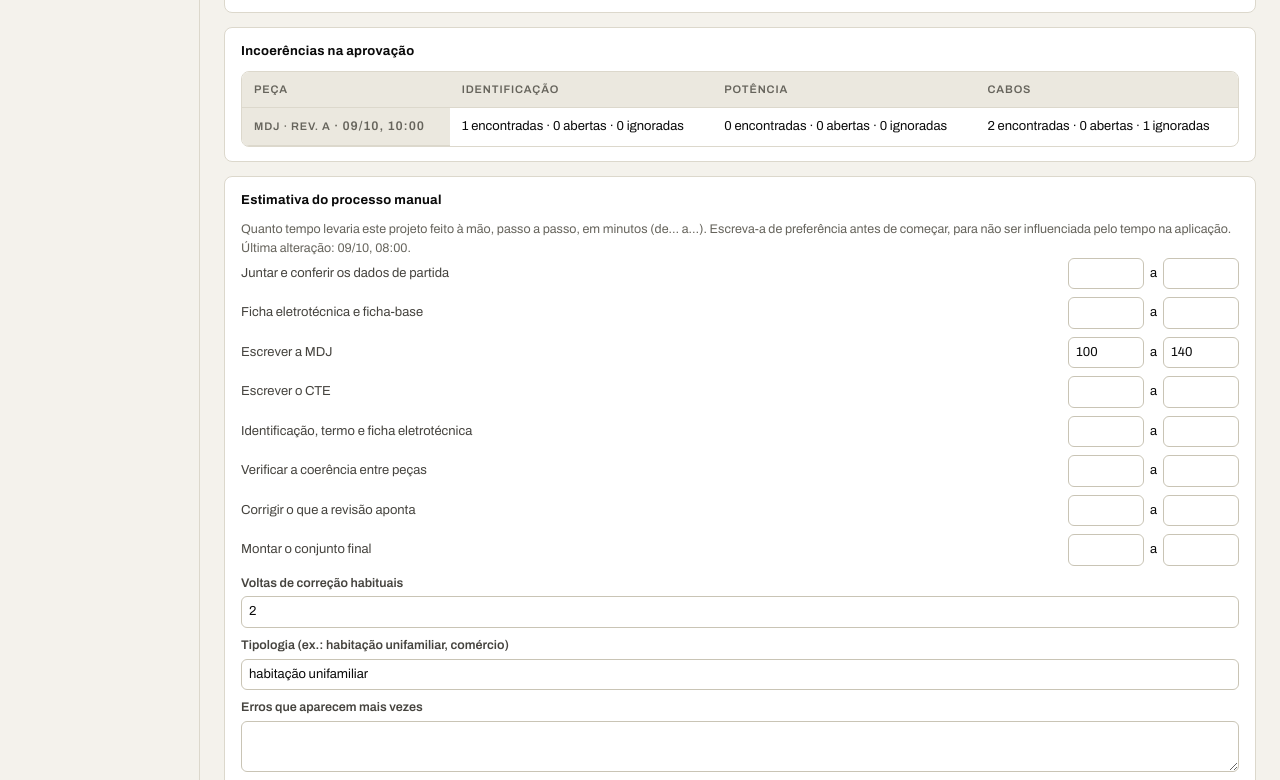
Test: pilot screen (Phase 8) › lets the technician write the estimate, step by step in minutes
The width and height of the screenshot is (1280, 780).
(page scrolled)
Type "80" into the number field named "Escrever o CTE: mínimo (min)" at (1106, 392), box left=1068, top=376, right=1144, bottom=408
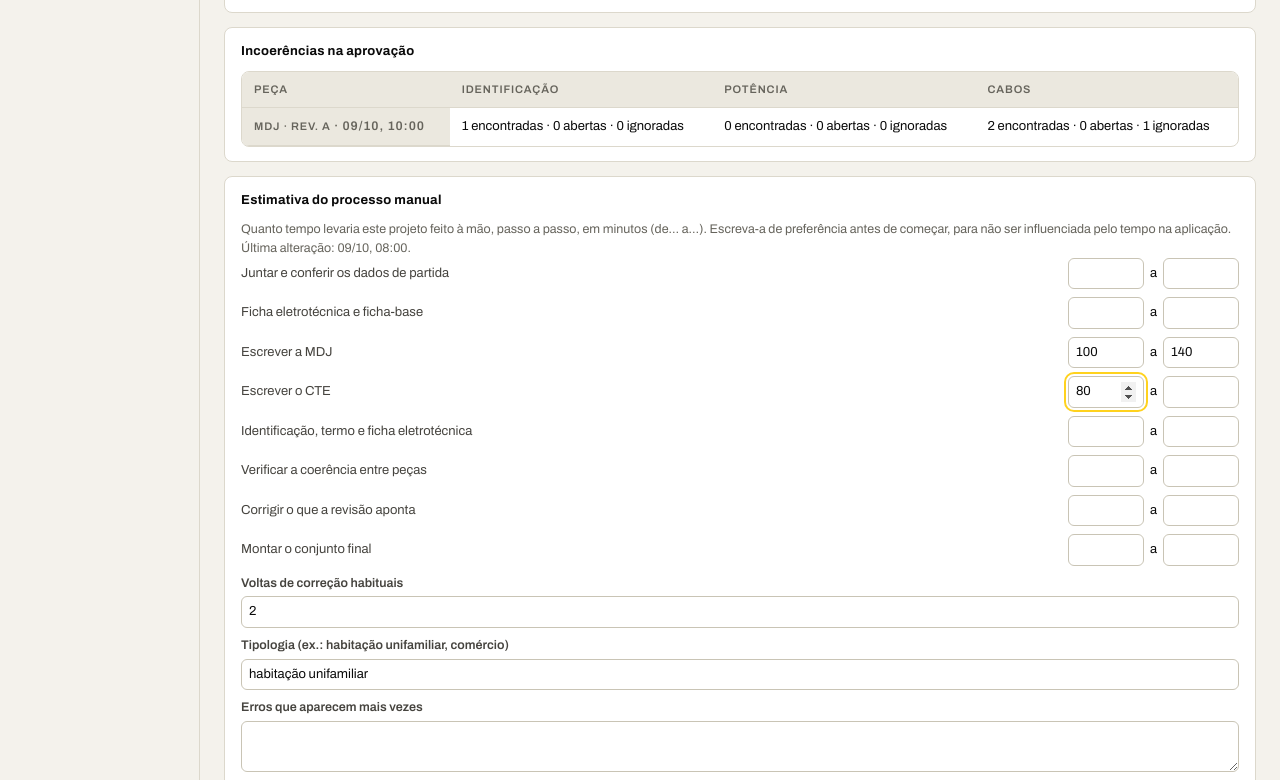
Type "100" into the number field named "Escrever o CTE: máximo (min)" at (1201, 392), box left=1163, top=376, right=1239, bottom=408
(page scrolled)
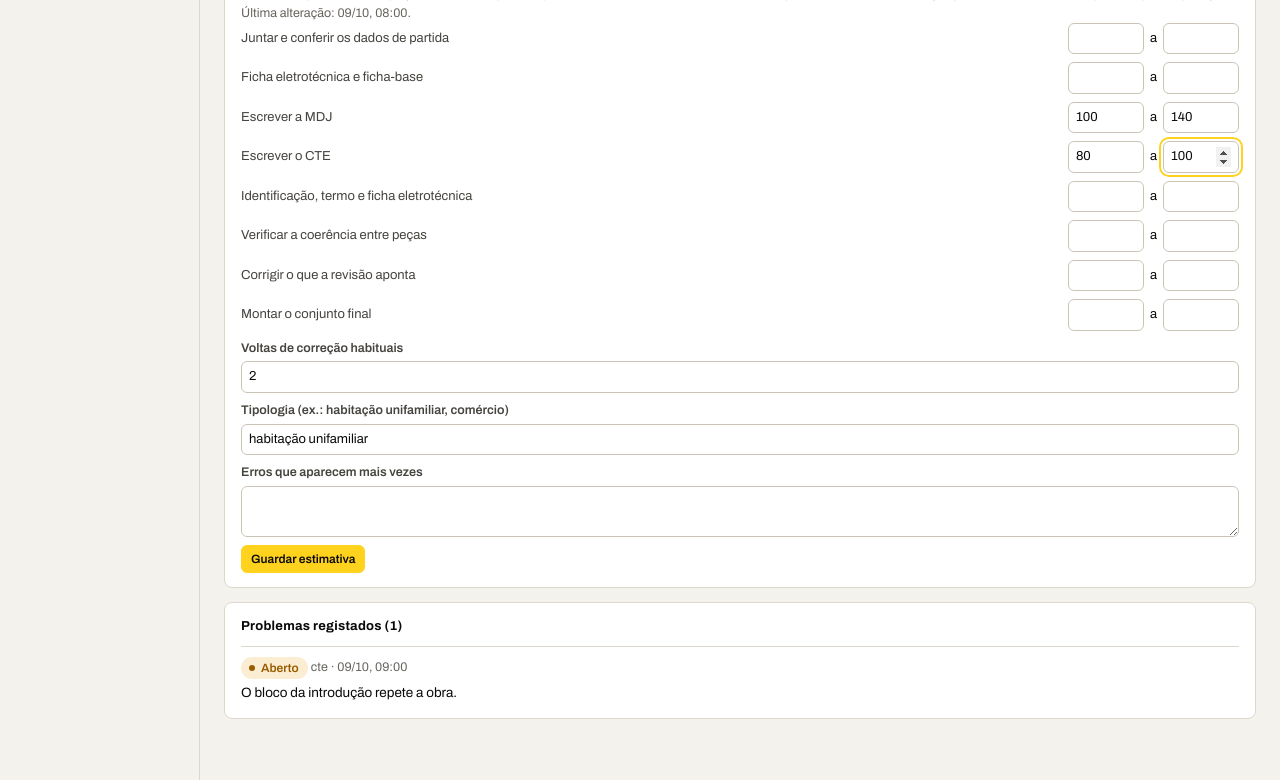
Click the button "Guardar estimativa" at (303, 559), box left=241, top=545, right=366, bottom=573
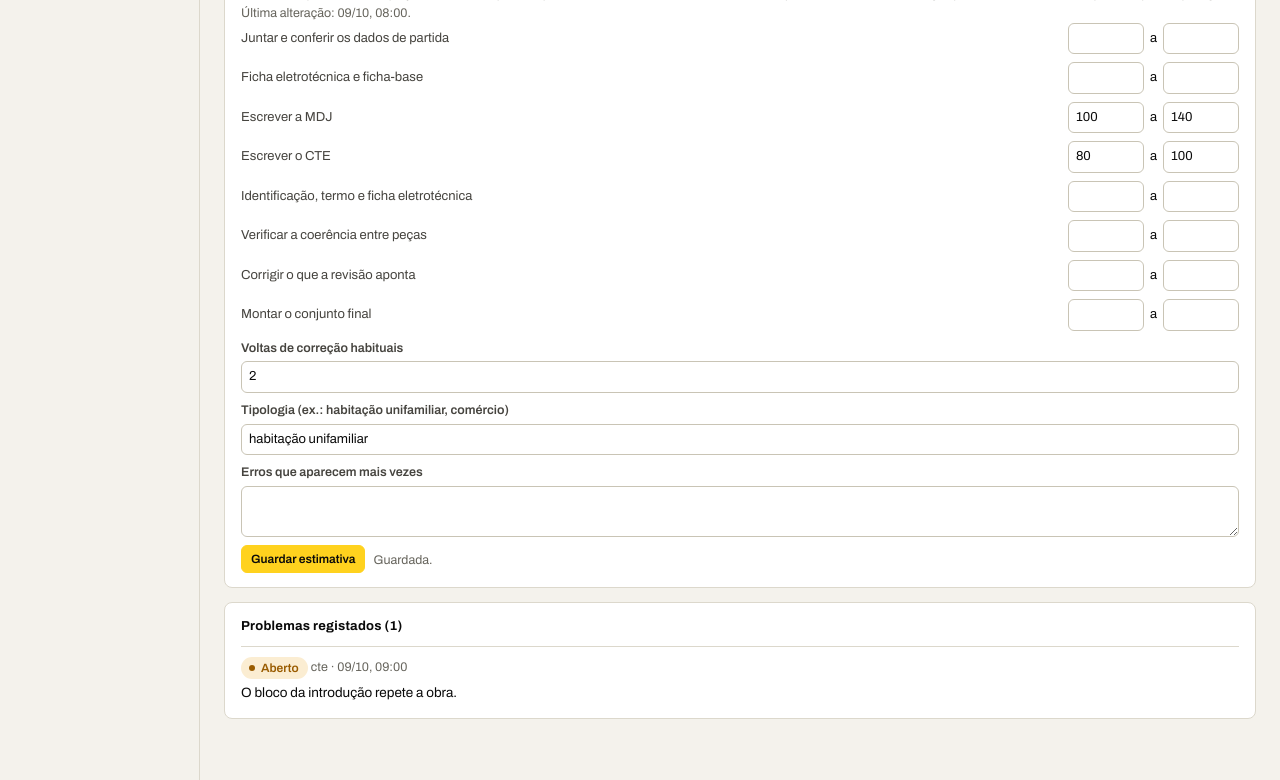
Expected: the message reads "Guardada.", left=374, top=553, right=433, bottom=567
